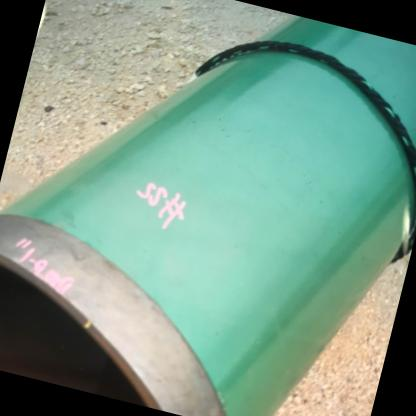Bevel: (53, 234, 96, 269)
